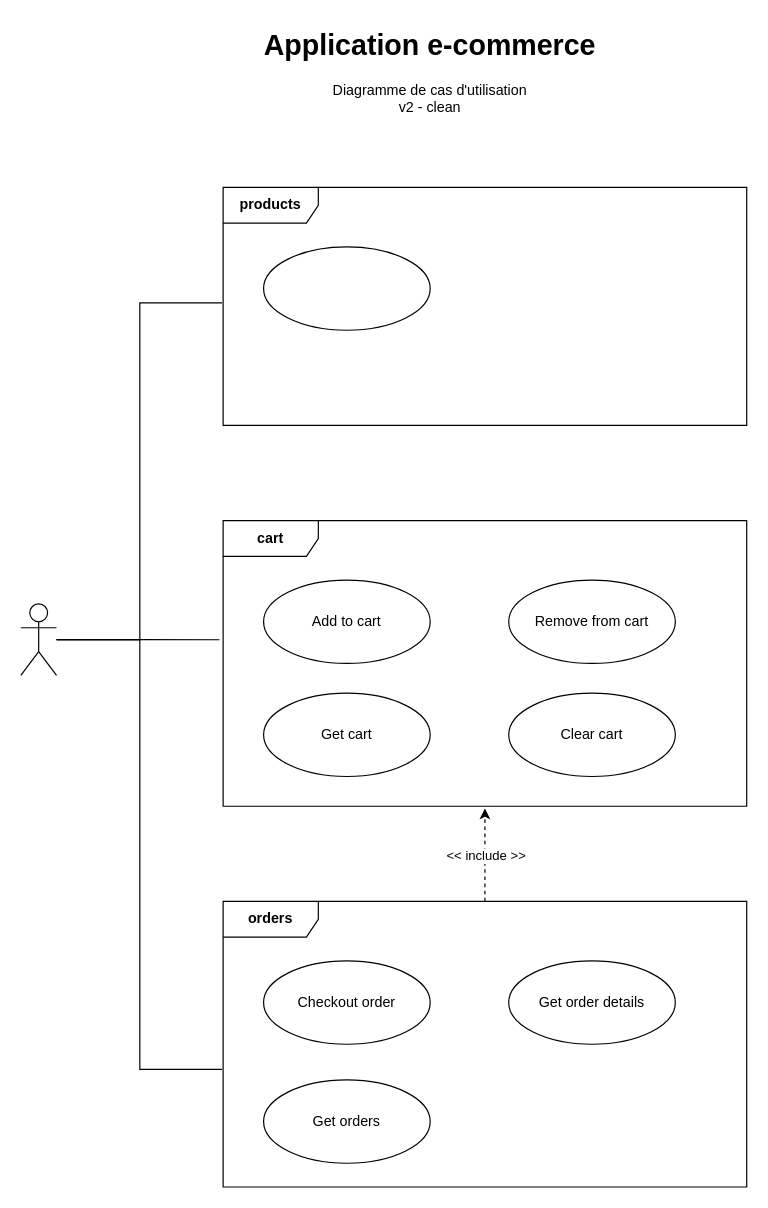
Image size: 768x1208. Some labels were removed from this diagram. Here are the shapes that lost their labels. From the top down, the box of each, then its label:
(262, 246, 430, 330): List products
(20, 603, 57, 675): User
